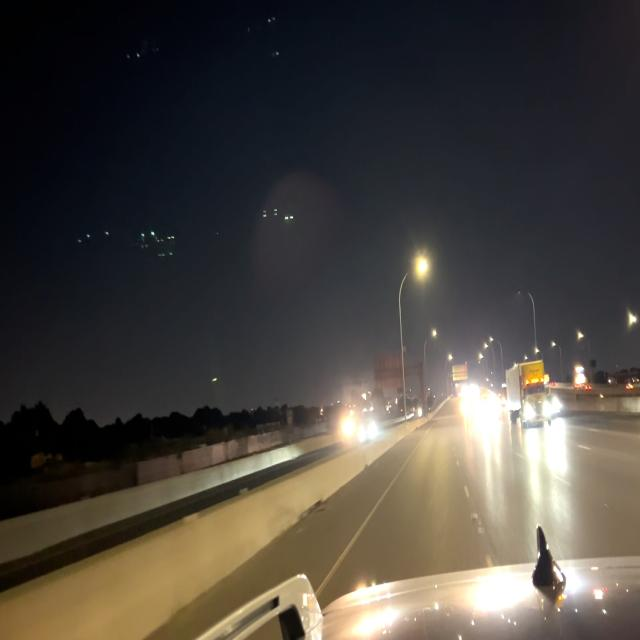back-of-sign: (371, 344, 410, 388)
